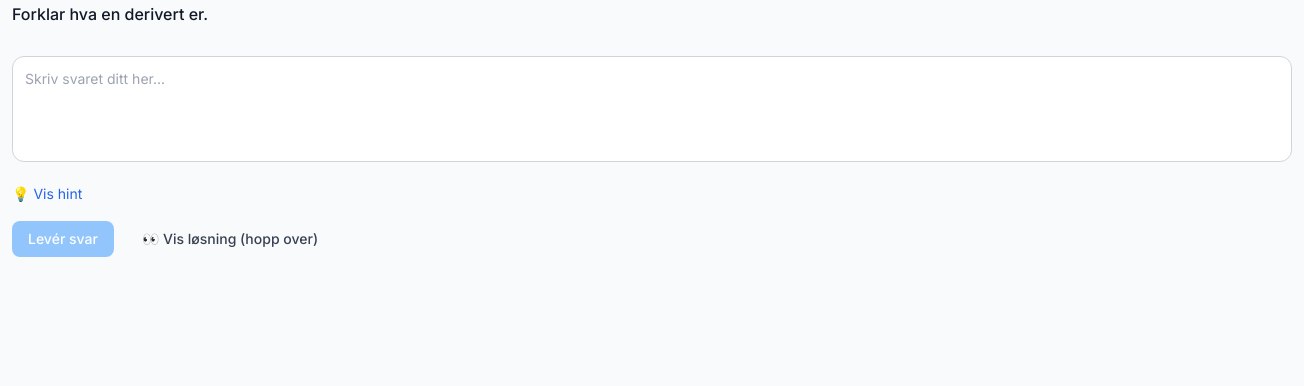
Scenario: FreeResponse › kan levere svar etter å ha skrevet noe
This screenshot has width=1304, height=386.
Type "Den deriverte er endringshastigheten." into the text box with placeholder "Skriv svaret ditt her...". click: (652, 109)
box: [12,56,1292,162]
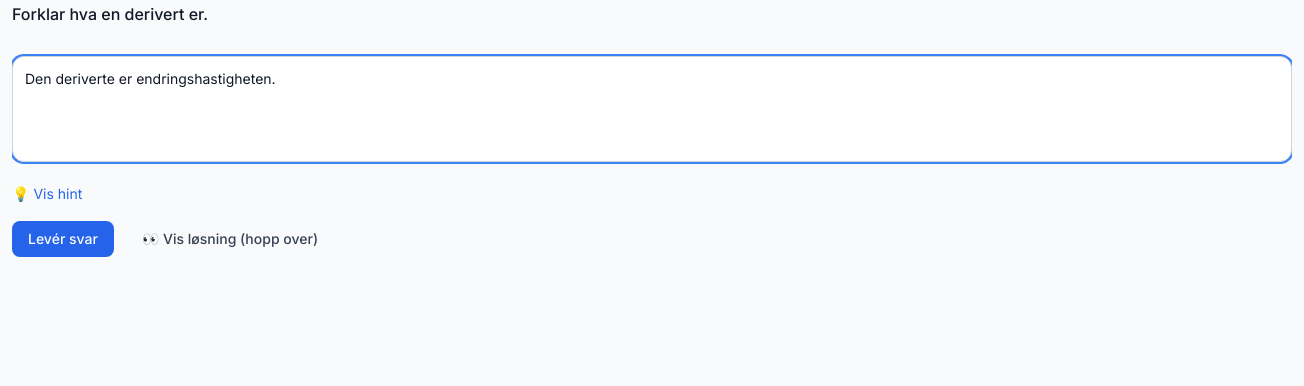
Click the button "Levér svar". click: (63, 239)
box: [12,221,114,257]
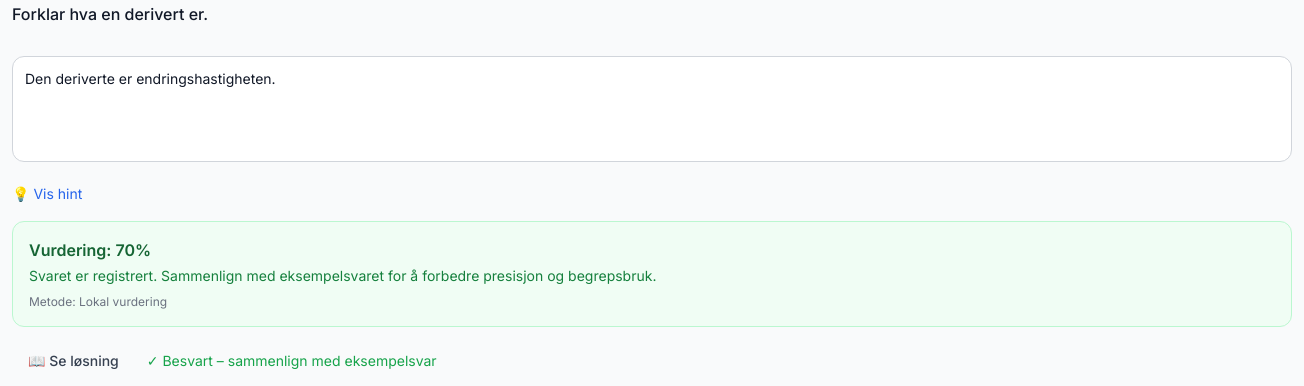
Expected: the text "Vurdering: 70%" is shown, [29,240,151,260]
